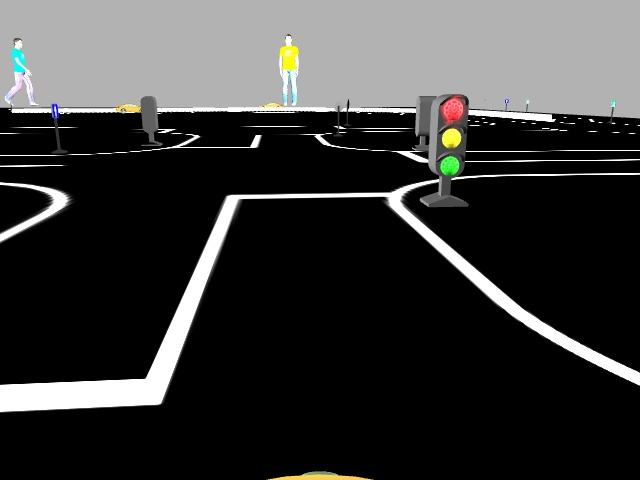TrafficLight: (427, 93, 468, 175)
